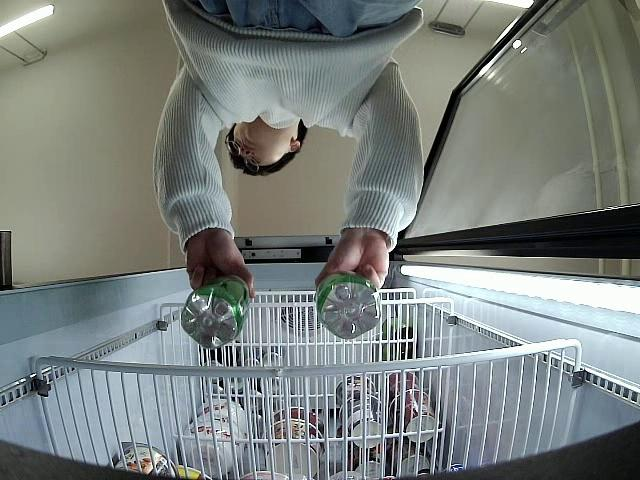00_hand: (185, 235, 255, 301), (315, 235, 390, 292)
19_17cha: (316, 270, 381, 339), (183, 280, 249, 345)
